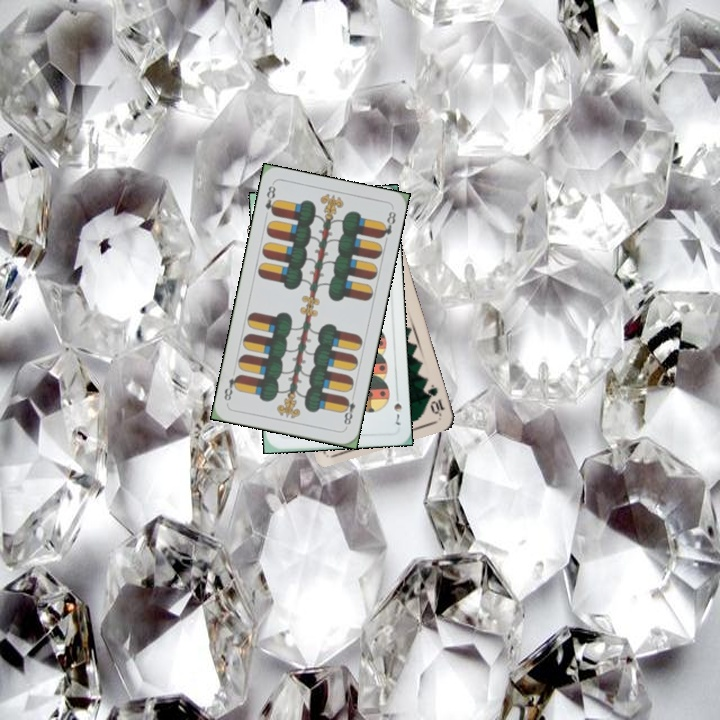E8: (339, 390, 358, 430), (261, 182, 280, 218)
G10: (423, 380, 448, 417)
S7: (390, 399, 404, 428)
